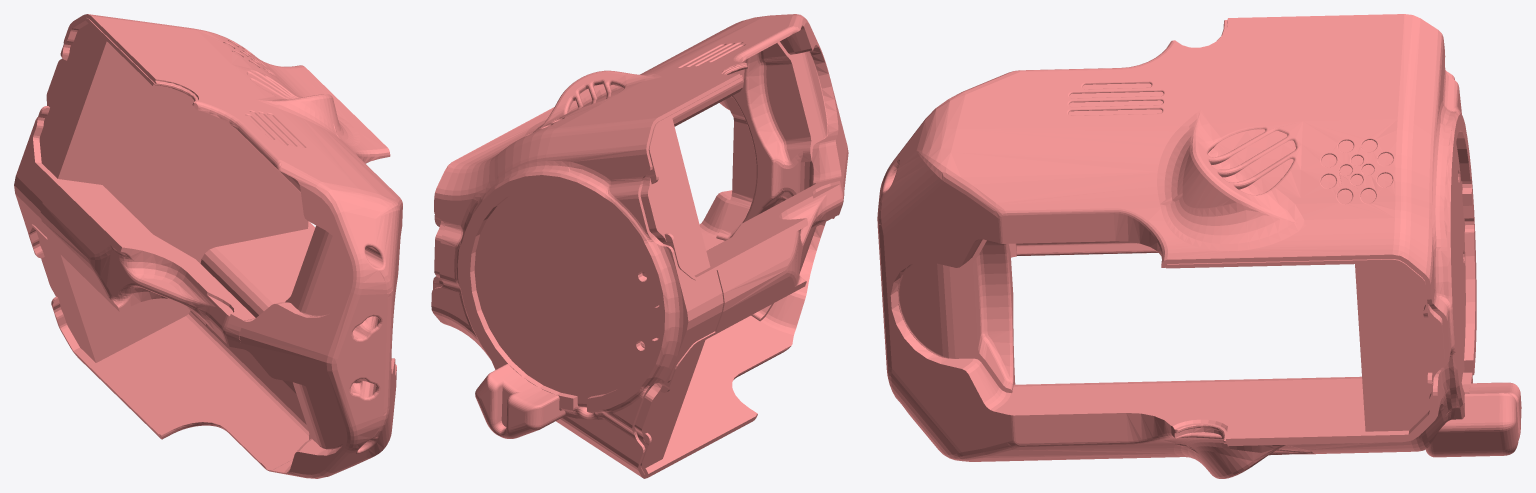
File: converted_r3_config1_base_col_ff9999ff.obj
The picture shows the model from 3 angles, left to right: view 1: azimuth 30°, elevation 25°; view 2: azimuth 150°, elevation 25°; view 3: azimuth 270°, elevation 25°; orthographic projection. The views are drawn at different scales.
Size of the model in its own units: 0.122 by 0.1512 by 0.2047.
